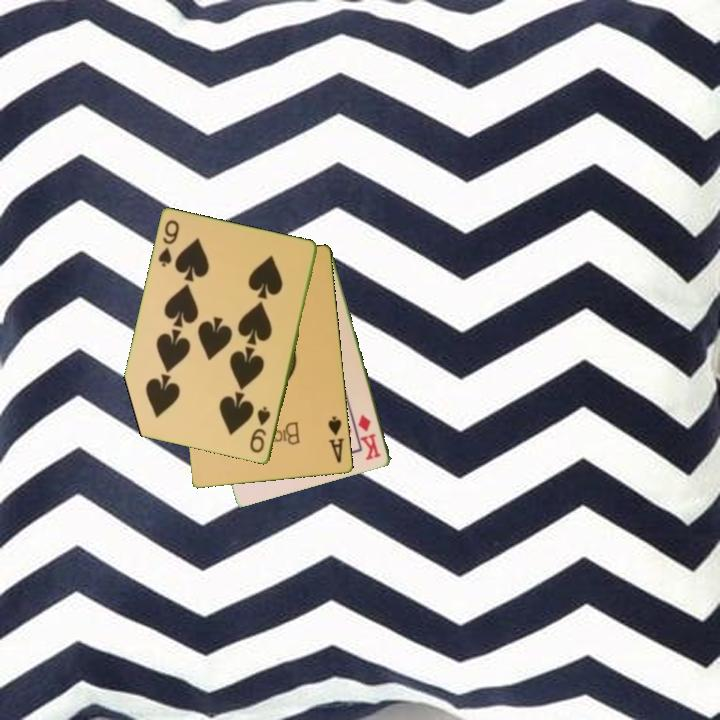9s: (246, 403, 274, 456), (155, 216, 182, 270)
As: (325, 413, 347, 466)
Kd: (354, 411, 384, 463)
